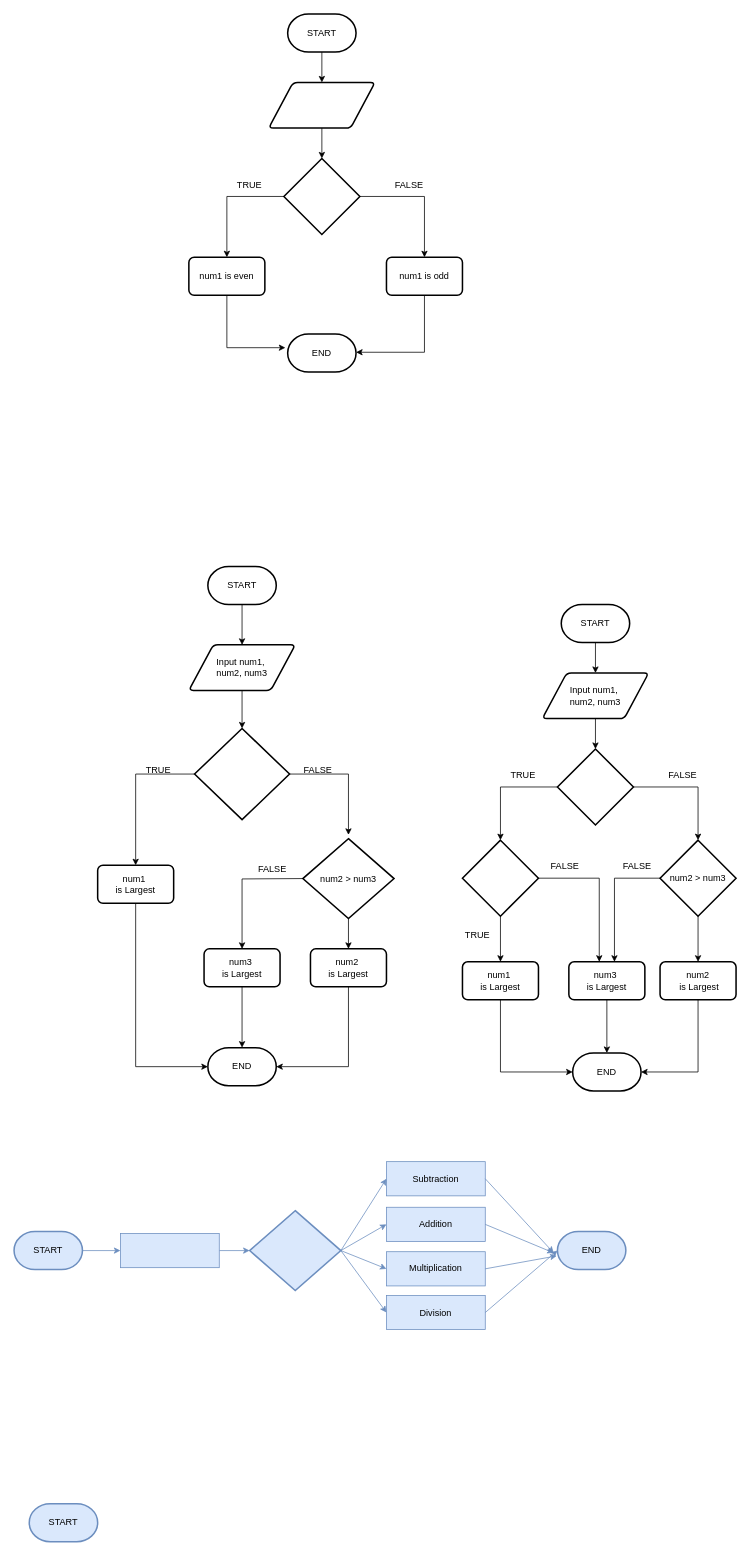
Some shapes in this 749 by 1555 pixel diagram are drawn without their labels. Here are the shapes that lost their labels. From the top down, the centre of each, then its label:
pixel 321 104: Input num1
pixel 321 196: num1 %2 = 0
pixel 241 773: num1 > num2 AND num1 > num3
pixel 595 786: num1 > num2
pixel 500 878: num1 > num3
pixel 169 1250: Input
pixel 295 1250: Choose one operation
